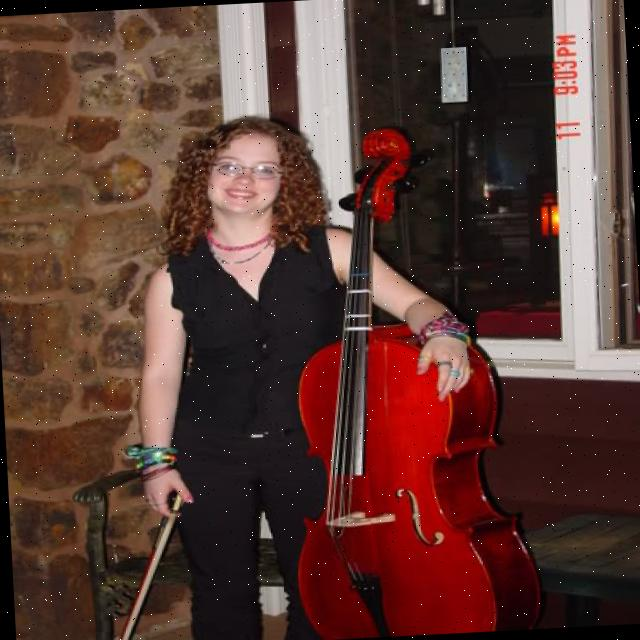cello: (271, 118, 546, 640)
